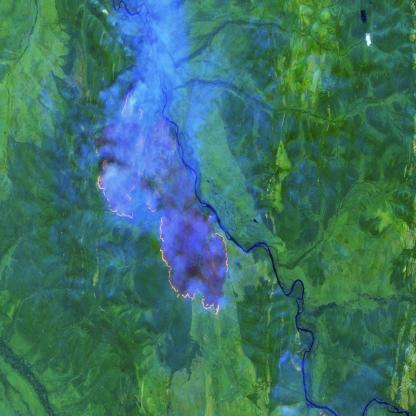fire: (94, 154, 230, 318)
